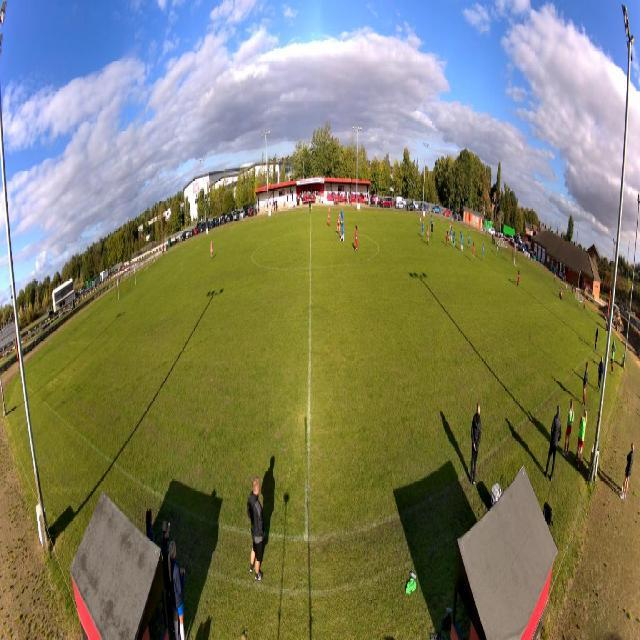ball: (428, 194, 429, 198)
player: (354, 224, 359, 253), (336, 211, 341, 237), (340, 218, 345, 244), (430, 220, 435, 239), (340, 209, 345, 226), (426, 225, 430, 246), (210, 240, 214, 260), (452, 230, 456, 249), (517, 269, 521, 288), (421, 219, 425, 238), (449, 225, 453, 243), (467, 233, 471, 250), (446, 232, 450, 248), (472, 242, 475, 263), (328, 207, 331, 227), (482, 242, 485, 262), (461, 234, 464, 253), (430, 214, 433, 232), (496, 240, 499, 257), (419, 211, 422, 228), (446, 229, 450, 241), (460, 228, 463, 242), (449, 220, 451, 234)
